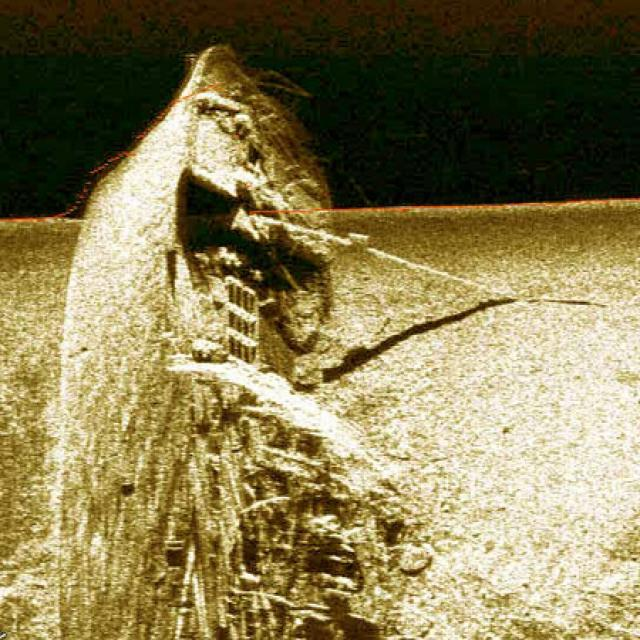ship: (62, 38, 390, 638)
